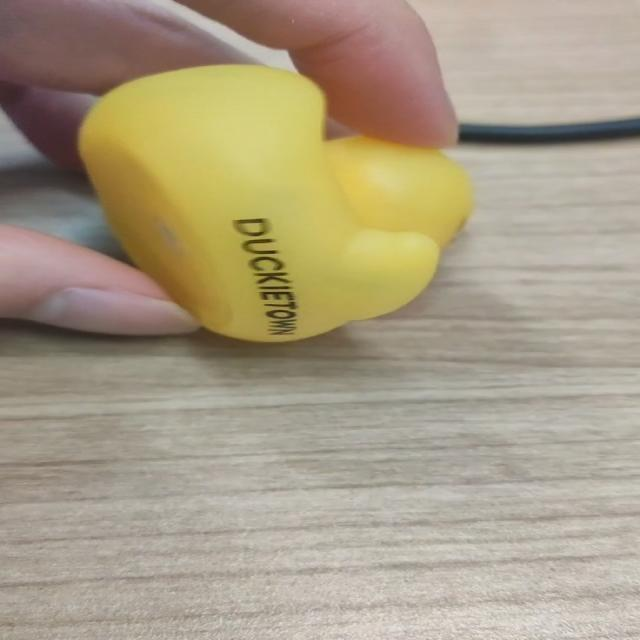rubber-duck: (78, 64, 471, 340)
